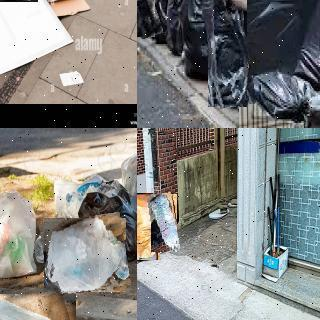Garbage: (239, 0, 320, 128), (42, 215, 128, 295), (203, 0, 251, 108), (0, 186, 41, 279), (0, 287, 82, 320), (150, 193, 180, 253), (137, 192, 158, 260), (137, 0, 159, 38), (149, 0, 169, 40)
